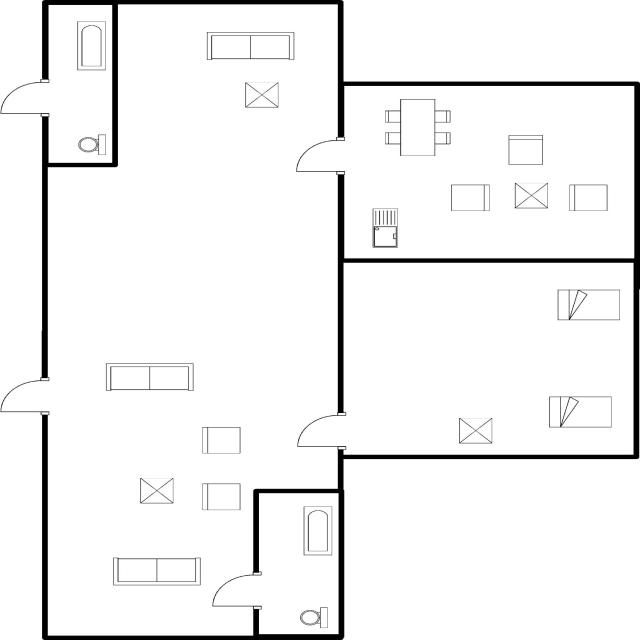bed: (543, 393, 619, 432), (551, 284, 622, 325)
coffee_table: (452, 413, 499, 448), (238, 77, 284, 112), (136, 474, 178, 508), (509, 182, 551, 212)
dining_table: (380, 93, 455, 160)
large_sink: (293, 604, 335, 630), (73, 131, 111, 158)
large_sofa: (198, 27, 298, 65), (107, 554, 207, 590), (100, 358, 198, 394)
sink: (366, 204, 404, 252)
small_sofa: (562, 178, 612, 215), (196, 422, 245, 458), (196, 479, 246, 513), (501, 132, 548, 168), (447, 182, 494, 215)
tub: (69, 16, 110, 74), (298, 500, 334, 560)
